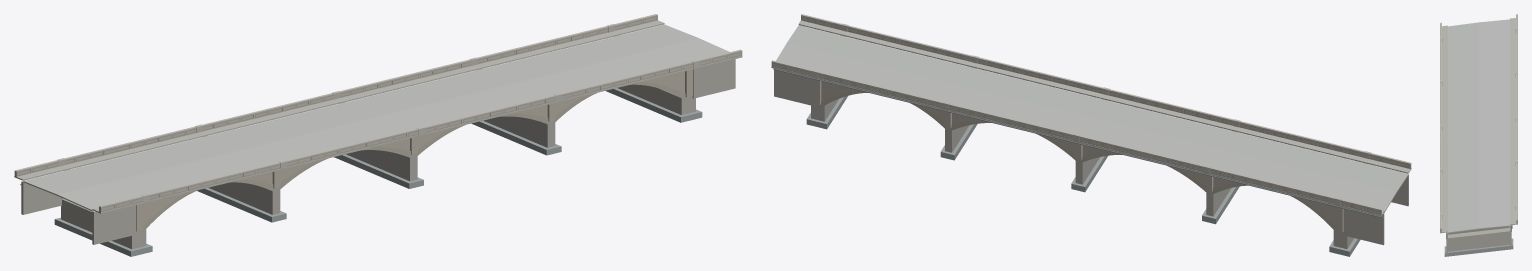
3 renders of one model, left to right at view 1: azimuth 30°, elevation 25°; view 2: azimuth 150°, elevation 25°; view 3: azimuth 270°, elevation 25°, orthographic. The views are drawn at different scales.
Parts seen in each view (by area): view 1: deck, walk_1, endwall_-1_-1, pier_1, walk_-1, endwall_1_-1, pier_3, pier_2, pier_4, pier_0, parapet_-1_1, parapet_1_3 (+20 smaller); view 2: deck, walk_-1, walk_1, endwall_-1_1, gas_line, endwall_1_1, parapet_1_3, parapet_1_1, parapet_-1_3, parapet_1_2, parapet_1_4, parapet_-1_1 (+14 smaller); view 3: deck, walk_-1, walk_1, pier_4, footing_4, fill_3, parapet_-1_1, parapet_-1_2, parapet_-1_3, parapet_1_4, parapet_-1_4, parapet_1_1 (+2 smaller).
Part boxes in pixels (x1,y1,x2,y2): deck: [23, 24, 729, 211]; walk_1: [14, 20, 664, 180]; endwall_-1_-1: [92, 205, 136, 244]; pier_1: [208, 182, 280, 214]; walk_-1: [92, 56, 742, 213]; endwall_1_-1: [692, 59, 735, 98]; pier_3: [483, 116, 555, 147]; pier_2: [346, 150, 417, 181]; pier_4: [618, 84, 695, 115]; pier_0: [61, 199, 146, 249]; parapet_-1_1: [149, 162, 280, 200]; parapet_1_3: [339, 59, 471, 97]; deck: [776, 25, 1408, 212]; walk_-1: [798, 20, 1411, 173]; walk_1: [771, 66, 1384, 216]; endwall_-1_1: [1343, 209, 1384, 245]; gas_line: [773, 68, 1383, 218]; endwall_1_1: [774, 70, 814, 105]; parapet_1_3: [948, 103, 1073, 139]; parapet_1_1: [1210, 167, 1334, 203]; parapet_-1_3: [978, 57, 1102, 93]; parapet_1_2: [1079, 135, 1204, 171]; parapet_1_4: [818, 71, 942, 108]; parapet_-1_1: [1239, 121, 1364, 157]; deck: [1448, 19, 1509, 233]; walk_-1: [1440, 25, 1447, 233]; walk_1: [1510, 18, 1517, 225]; pier_4: [1448, 227, 1509, 251]; footing_4: [1444, 238, 1513, 256]; fill_3: [1449, 226, 1508, 234]; parapet_-1_1: [1440, 38, 1441, 80]; parapet_-1_2: [1440, 82, 1441, 124]; parapet_-1_3: [1440, 126, 1441, 168]; parapet_1_4: [1516, 162, 1517, 204]; parapet_-1_4: [1440, 171, 1441, 212]; parapet_1_1: [1516, 30, 1517, 71].
Size of the model in its own units: 113 by 9.85 by 17.35.
